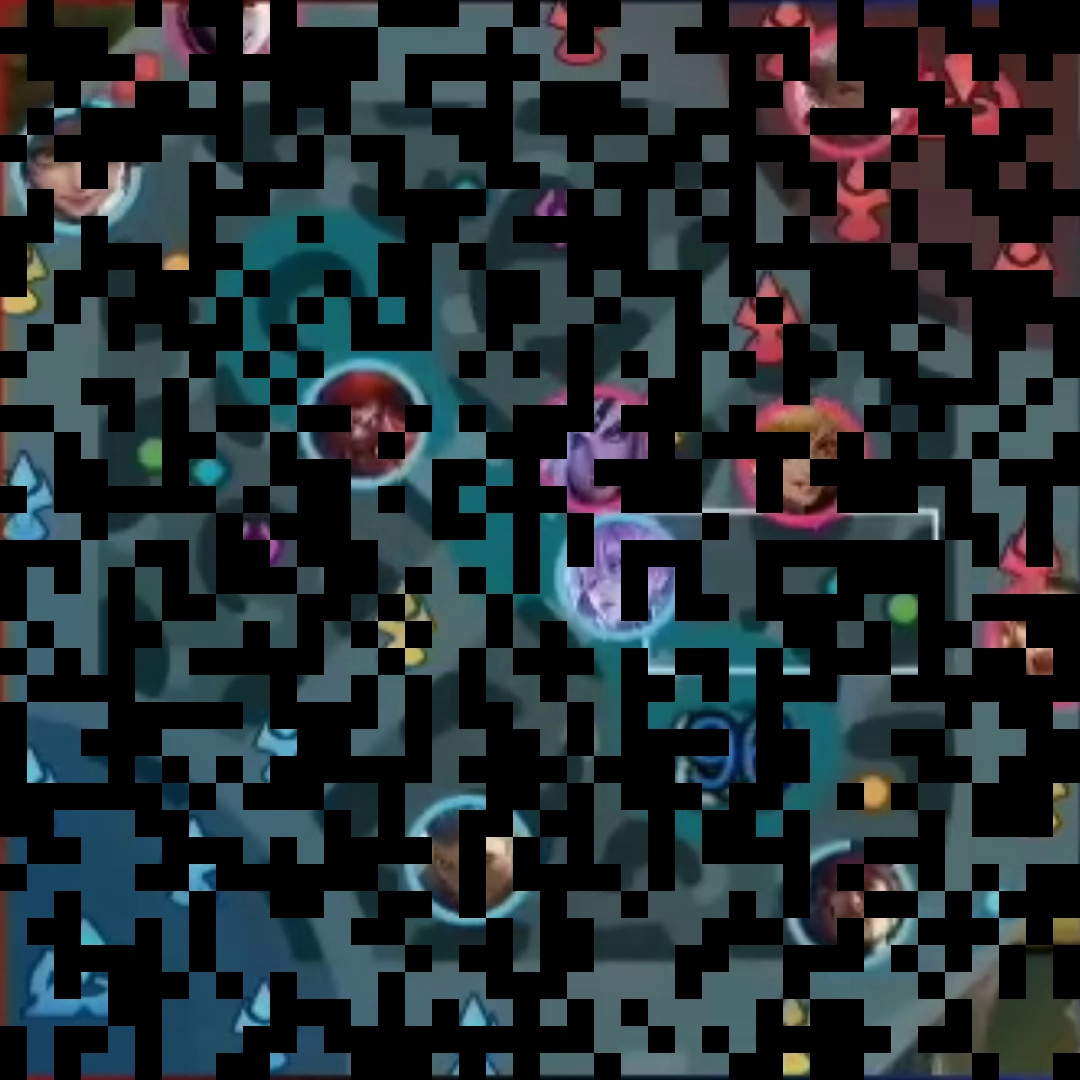Chou: (804, 51, 894, 138)
Claude: (194, 1, 277, 65)
Fanny: (757, 413, 841, 515)
Fredrinn: (423, 811, 516, 903)
Lapu-Lapu: (812, 853, 896, 950)
Masha: (1013, 596, 1080, 688)
Minotaur: (323, 378, 405, 473)
Novaria: (571, 529, 666, 624)
Valentina: (549, 402, 637, 506)
Wanwan: (32, 122, 127, 223)
